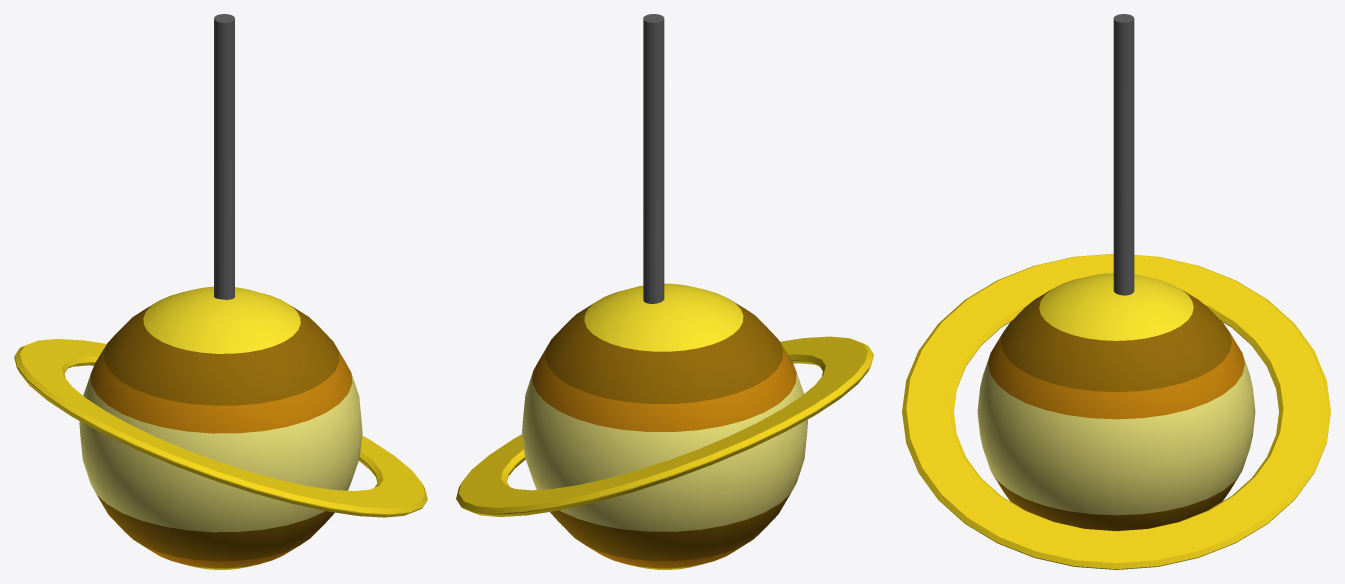
Rendered from atomic-orbit-model.glb.
The picture shows the model from 3 angles, left to right: view 1: azimuth 30°, elevation 25°; view 2: azimuth 150°, elevation 25°; view 3: azimuth 270°, elevation 25°; orthographic projection. The views are drawn at different scales.
Parts seen in each view (by area): view 1: Object_175; view 2: Object_175; view 3: Object_175.
Part boxes in pixels (bbox=[...]): Object_175: bbox=[14, 14, 427, 569]; Object_175: bbox=[456, 14, 873, 569]; Object_175: bbox=[902, 14, 1330, 569].
Size of the model in its own units: 1 by 1.46 by 1.08.
Materials: 1 (1 with a texture image).
